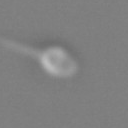normal: (1, 32, 43, 60)
